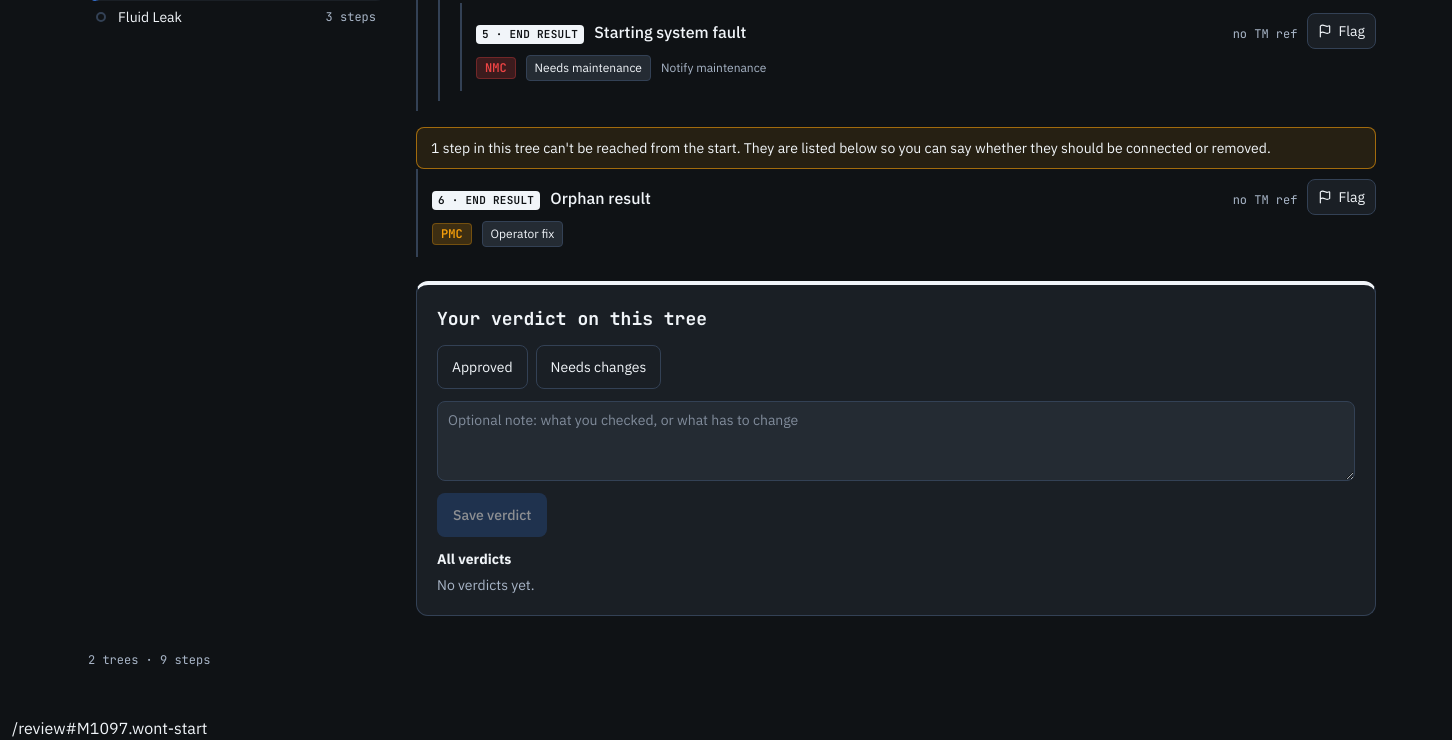
Scenario: Troubleshooting review: verdicts › shows the server's OPEN_FLAGS refusal (a flag raised meanwhile)
(page scrolled)
Click the button "Approved": (482, 367) [437,345,528,389]
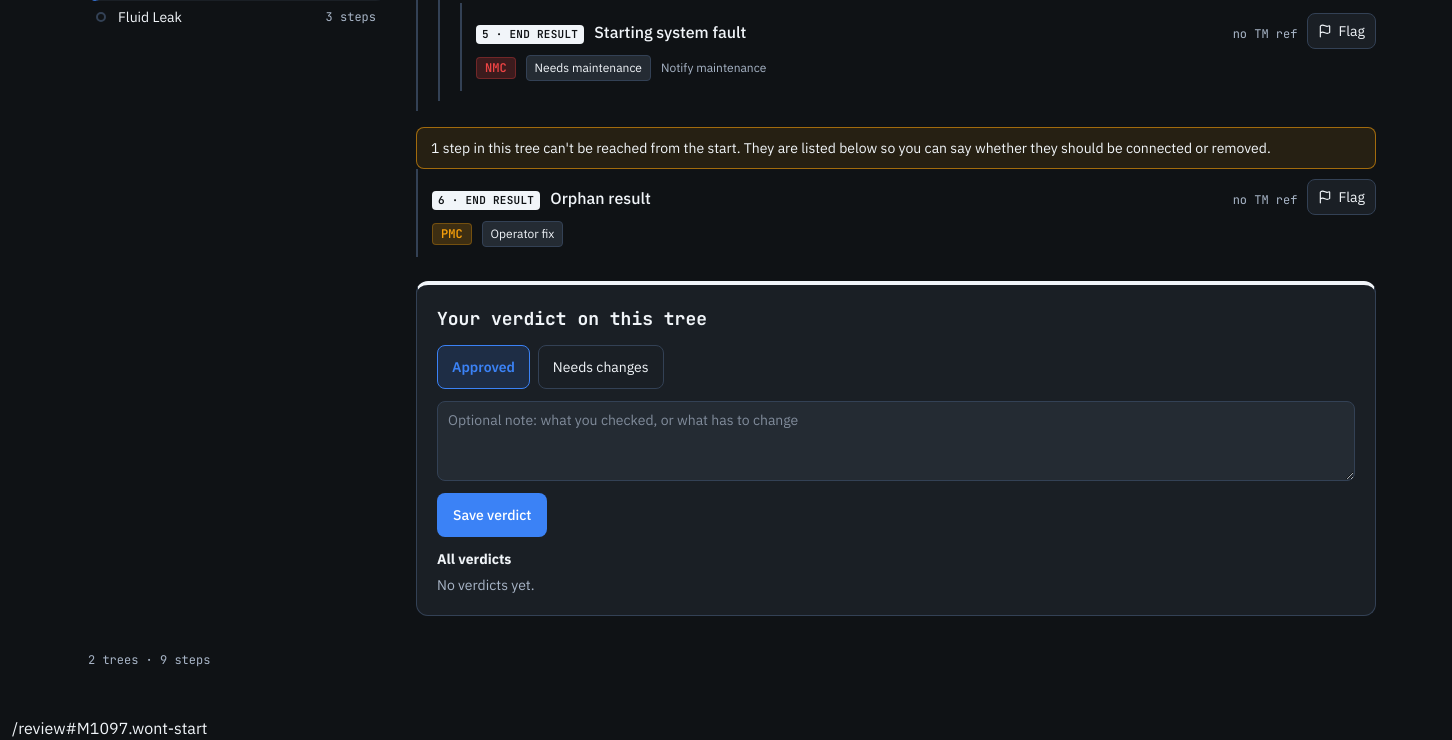
Click the button "Save verdict": (492, 515) [437,493,547,537]
(page scrolled)
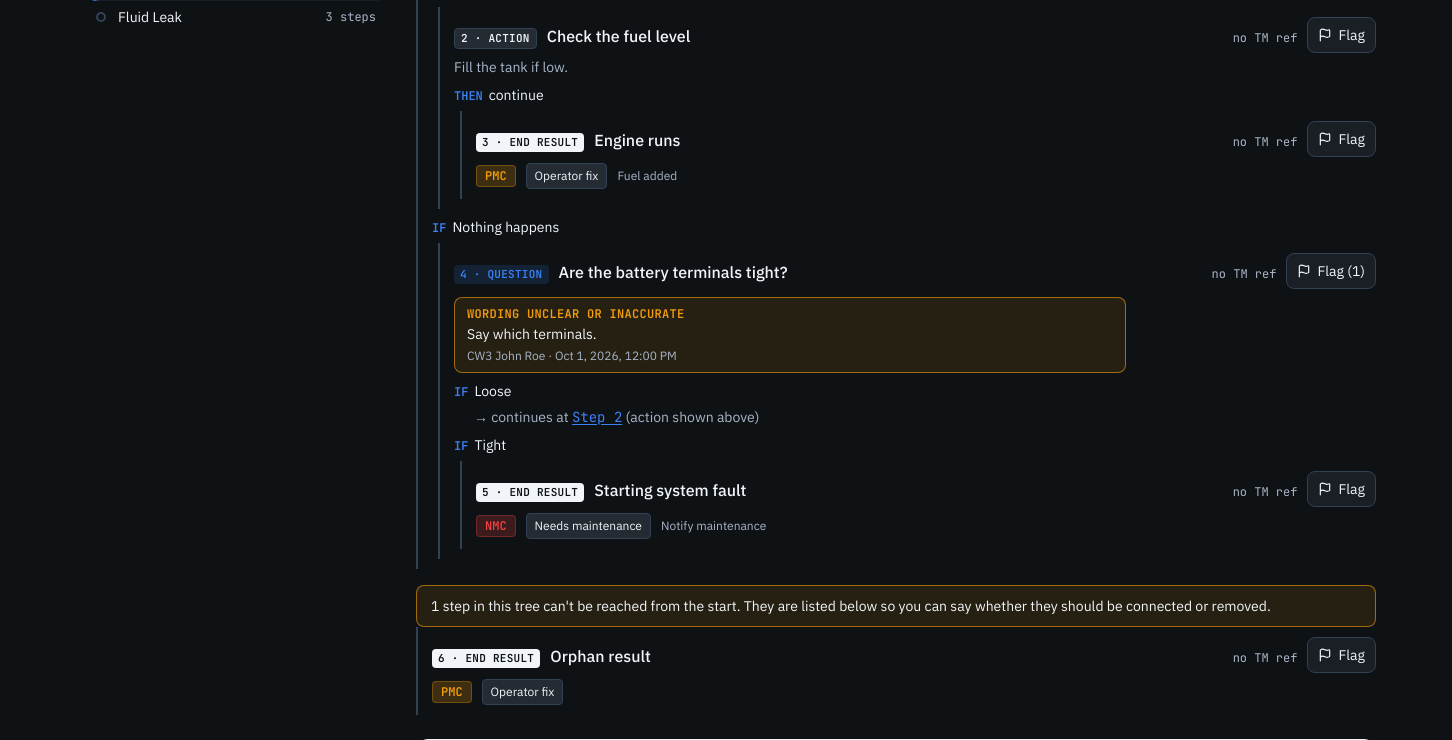
Expected: the element with test id "flag-card" is shown, [454,297,1126,373]
